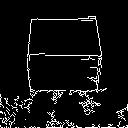cube: (24, 13, 110, 101)
